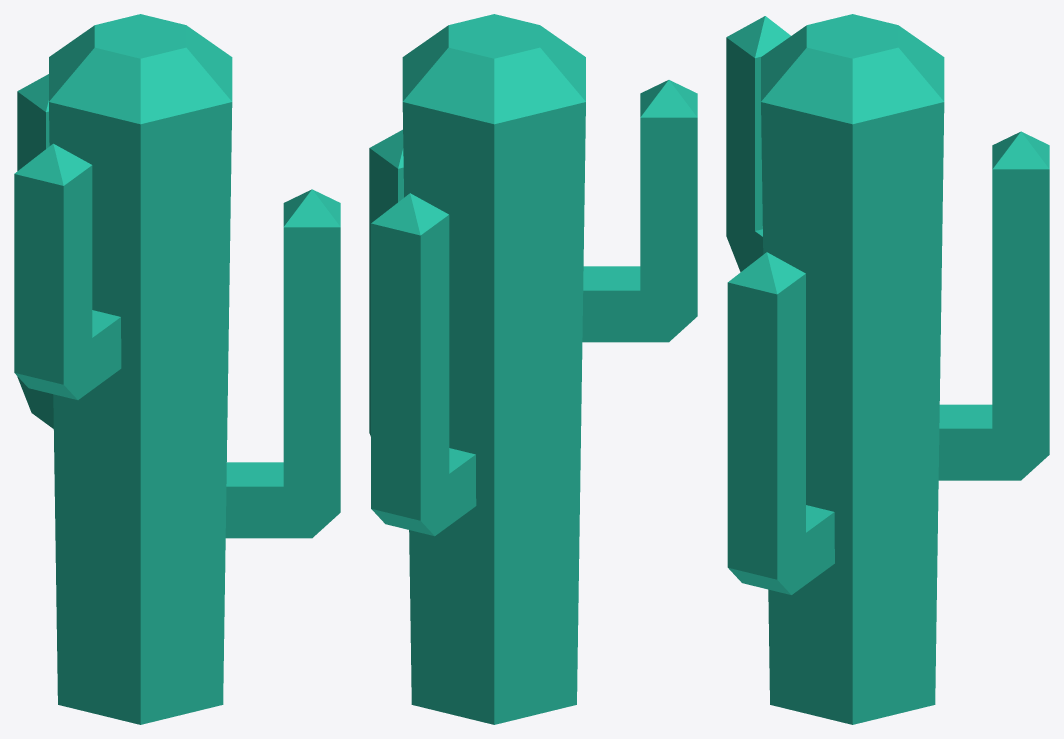
The model's file is cactus_tall.dae.
3 views of the same model, side by side, from view 1: azimuth 30°, elevation 25°; view 2: azimuth 150°, elevation 25°; view 3: azimuth 270°, elevation 25° (orthographic).
Parts seen in each view (by area): view 1: cactus_tall; view 2: cactus_tall; view 3: cactus_tall.
Boxes of the visible parts, left/top/right/bottom form: cactus_tall: left=14, top=14, right=340, bottom=724; cactus_tall: left=369, top=14, right=697, bottom=724; cactus_tall: left=726, top=14, right=1049, bottom=724.
Bounding box in the file's own units: 0.3962 × 0.75 × 0.3391.
